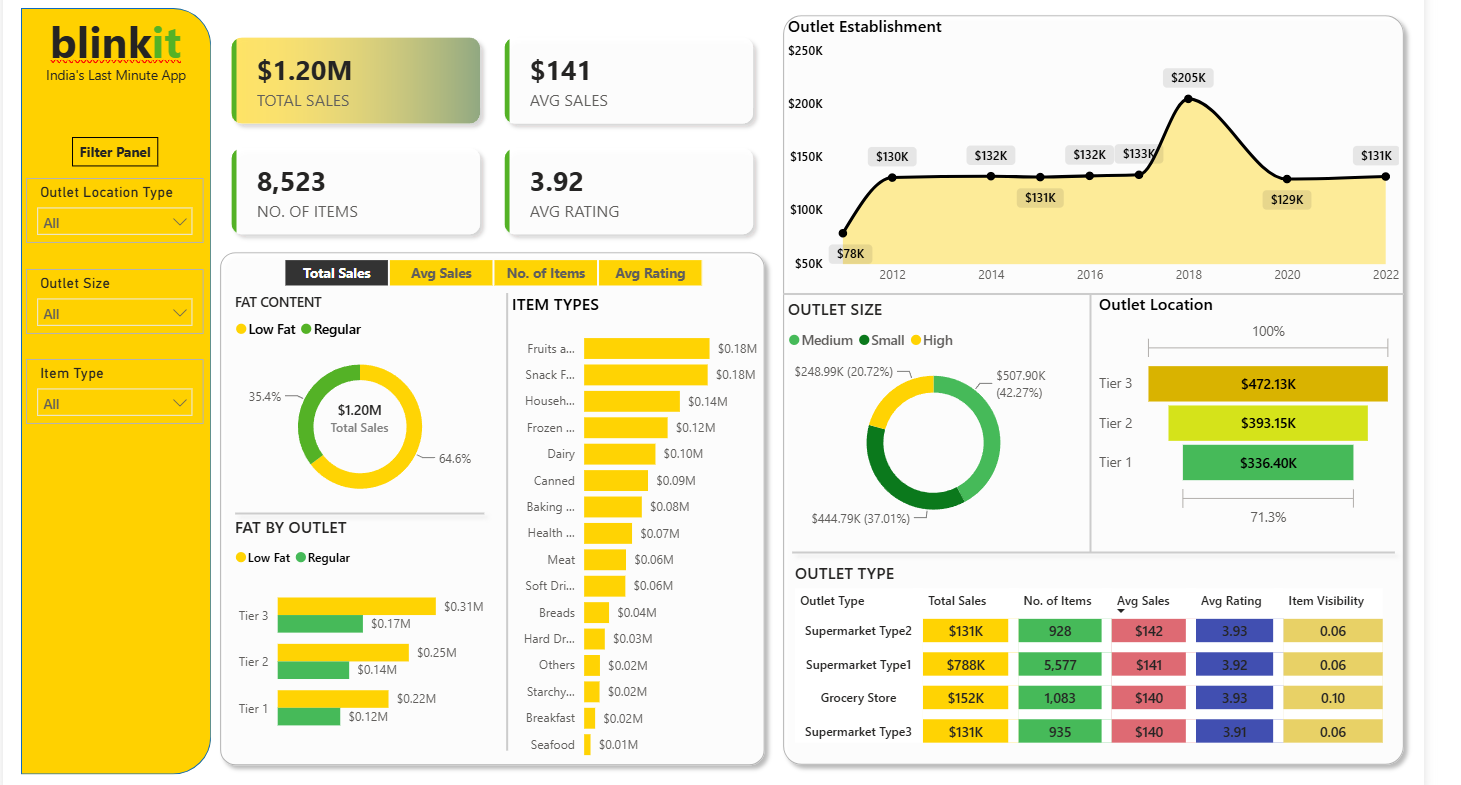

What the dashboard file says about the page in this screenshot:
{"tool":"powerbi","page":{"name":"Page 1","canvas":[1400,800],"ordinal":0},"visuals":[{"type":"shape","box":[17.6,26.5,187.4,755.1],"z":0},{"type":"textbox","box":[37.4,24.6,146.8,74.9],"z":1000},{"type":"textbox","box":[37.4,78.8,155.7,27.6],"z":2000},{"type":"cardVisual","fields":{"Data":["BlinkIT Grocery Data.Totla Sales","BlinkIT Grocery Data.Avg Sales","BlinkIT Grocery Data.No. of Items","BlinkIT Grocery Data.Avg Rating"]},"box":[196.2,26.5,572.1,253.5],"z":3000},{"type":"shape","box":[205,258,554.5,523.6],"z":4000},{"type":"donutChart","title":"FAT CONTENT","fields":{"Y":["BlinkIT Grocery Data.Total Sales"],"Category":["BlinkIT Grocery Data.Item Fat Content"]},"box":[223.6,307.4,256.2,219.7],"z":5000},{"type":"slicer","fields":{"Values":["Metrics.Metrics"]},"box":[252.2,268,460.1,39.4],"z":6000},{"type":"cardVisual","fields":{"Data":["BlinkIT Grocery Data.Total Sales"]},"box":[289.9,400.2,123.5,61.7],"z":7000},{"type":"clusteredBarChart","title":"FAT BY OUTLET","fields":{"Y":["BlinkIT Grocery Data.Total Sales"],"Category":["BlinkIT Grocery Data.Outlet Location Type"],"Series":["BlinkIT Grocery Data.Item Fat Content"]},"box":[223.8,526.9,255.7,231.5],"z":8000},{"type":"shape","box":[219.4,514.8,263.5,18.7],"z":9000},{"type":"shape","box":[490.6,307.6,12.1,450.9],"z":10000},{"type":"barChart","title":"ITEM TYPES","fields":{"Y":["BlinkIT Grocery Data.Total Sales"],"Category":["BlinkIT Grocery Data.Item Type"]},"box":[496.6,307.4,252.2,470.9],"z":11000},{"type":"shape","box":[759.6,24.6,629.6,756.7],"z":12000},{"type":"lineChart","title":"Outlet Establishment","fields":{"Y":["BlinkIT Grocery Data.Total Sales"],"Category":["BlinkIT Grocery Data.Outlet Establishment Year"]},"box":[768.3,33.1,611.8,274.5],"z":13000},{"type":"donutChart","title":"OUTLET SIZE","fields":{"Category":["BlinkIT Grocery Data.Outlet Size"],"Y":["BlinkIT Grocery Data.Total Sales"]},"box":[768.5,312.3,296.6,235.5],"z":14000},{"type":"funnel","title":"Outlet Location","fields":{"Category":["BlinkIT Grocery Data.Outlet Location Type"],"Y":["BlinkIT Grocery Data.Total Sales"]},"box":[1074.9,307.4,299.5,235.5],"z":15000},{"type":"pivotTable","title":"OUTLET TYPE","fields":{"Rows":["BlinkIT Grocery Data.Outlet Type"],"Values":["BlinkIT Grocery Data.Total Sales","BlinkIT Grocery Data.No. of Items","BlinkIT Grocery Data.Avg Sales","BlinkIT Grocery Data.Avg Rating","Avg(BlinkIT Grocery Data.Item Visibility)"]},"box":[775.4,572.4,599,195.1],"z":16000},{"type":"shape","box":[768.5,301.5,611.8,13.8],"z":17000},{"type":"shape","box":[1068,308.4,6.9,255.2],"z":18000},{"type":"shape","box":[768.5,553.7,611.8,18.7],"z":19000},{"type":"slicer","fields":{"Values":["BlinkIT Grocery Data.Outlet Location Type"]},"box":[23.1,194,175.3,63.9],"z":20000},{"type":"slicer","fields":{"Values":["BlinkIT Grocery Data.Outlet Size"]},"box":[23.1,283.3,175.3,63.9],"z":20001},{"type":"slicer","fields":{"Values":["BlinkIT Grocery Data.Item Type"]},"box":[23.1,372.6,175.3,63.9],"z":20002},{"type":"textbox","box":[68,153.7,84.7,28.6],"z":20003}]}

Visuals, with their boxes on the page's 1400x800 design canvas (x1, y1, x2, y2). These are canvas units, not pixel positions in the 1461x785 screenshot, which may show the page scaled, cropped or inside an application window:
shape: Rect(18, 26, 205, 782)
textbox: Rect(37, 25, 184, 100)
textbox: Rect(37, 79, 193, 106)
cardVisual - BlinkIT Grocery Data.Totla Sales x BlinkIT Grocery Data.Avg Sales: Rect(196, 26, 768, 280)
shape: Rect(205, 258, 760, 782)
"FAT CONTENT" donutChart: Rect(224, 307, 480, 527)
slicer - Metrics.Metrics: Rect(252, 268, 712, 307)
cardVisual - BlinkIT Grocery Data.Total Sales: Rect(290, 400, 413, 462)
"FAT BY OUTLET" clusteredBarChart: Rect(224, 527, 480, 758)
shape: Rect(219, 515, 483, 534)
shape: Rect(491, 308, 503, 758)
"ITEM TYPES" barChart: Rect(497, 307, 749, 778)
shape: Rect(760, 25, 1389, 781)
"Outlet Establishment" lineChart: Rect(768, 33, 1380, 308)
"OUTLET SIZE" donutChart: Rect(768, 312, 1065, 548)
"Outlet Location" funnel: Rect(1075, 307, 1374, 543)
"OUTLET TYPE" pivotTable: Rect(775, 572, 1374, 768)
shape: Rect(768, 302, 1380, 315)
shape: Rect(1068, 308, 1075, 564)
shape: Rect(768, 554, 1380, 572)
slicer - BlinkIT Grocery Data.Outlet Location Type: Rect(23, 194, 198, 258)
slicer - BlinkIT Grocery Data.Outlet Size: Rect(23, 283, 198, 347)
slicer - BlinkIT Grocery Data.Item Type: Rect(23, 373, 198, 436)
textbox: Rect(68, 154, 153, 182)
